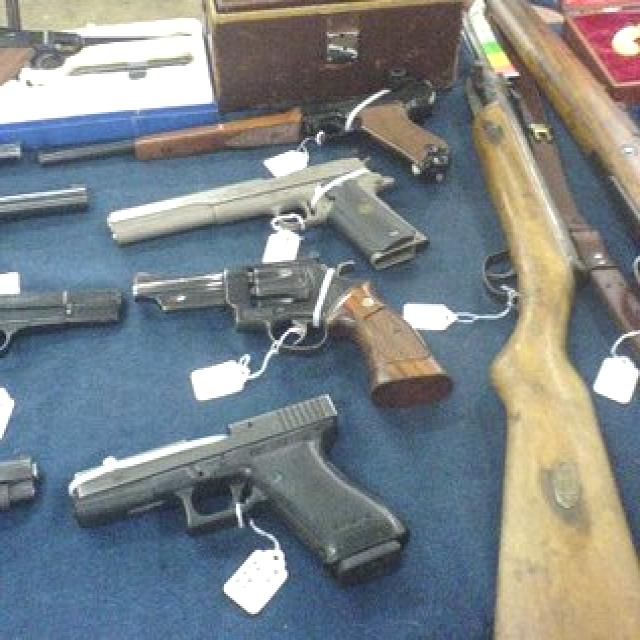pistol: (63, 392, 426, 578), (129, 252, 456, 408), (103, 150, 444, 272)
